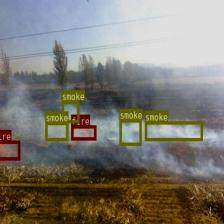fire: (0, 140, 20, 160), (70, 125, 96, 140)
smoke: (144, 121, 202, 140), (119, 119, 141, 145), (45, 121, 68, 140), (61, 100, 79, 122)
